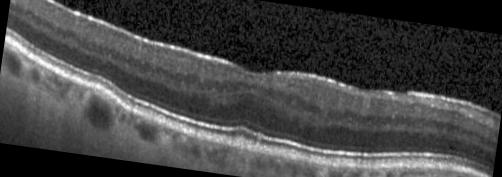retinal_drusen: (90, 84, 116, 102), (231, 136, 251, 149)
